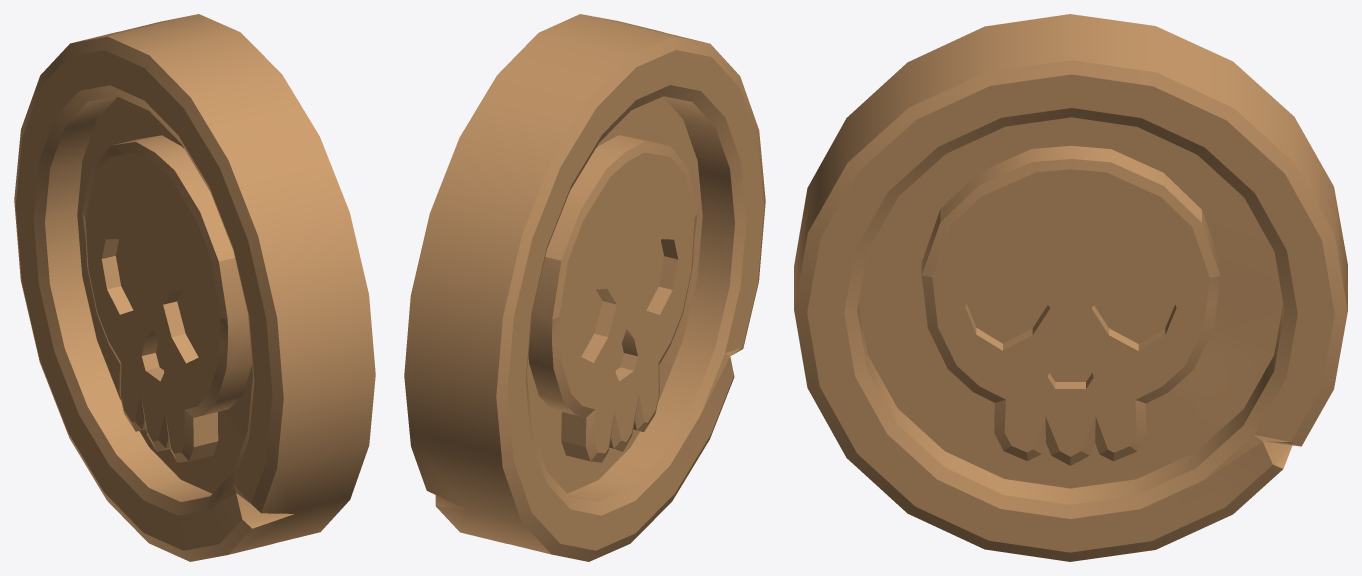
The model's file is coin.glb.
3 renders of one model, left to right at view 1: azimuth 30°, elevation 25°; view 2: azimuth 150°, elevation 25°; view 3: azimuth 270°, elevation 25°, orthographic. The views are drawn at different scales.
Parts seen in each view (by area): view 1: Cylinder_2.001; view 2: Cylinder_2.001; view 3: Cylinder_2.001.
Part boxes in pixels (bbox=[...]): Cylinder_2.001: bbox=[14, 14, 375, 561]; Cylinder_2.001: bbox=[404, 14, 765, 561]; Cylinder_2.001: bbox=[794, 14, 1347, 561].
Size of the model in its own units: 0.0191 by 0.0856 by 0.0856.
